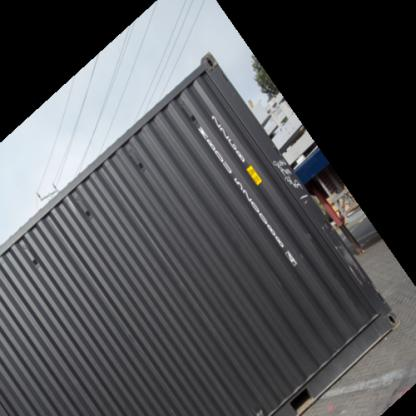Damage: (325, 207, 373, 282), (268, 155, 316, 209)
